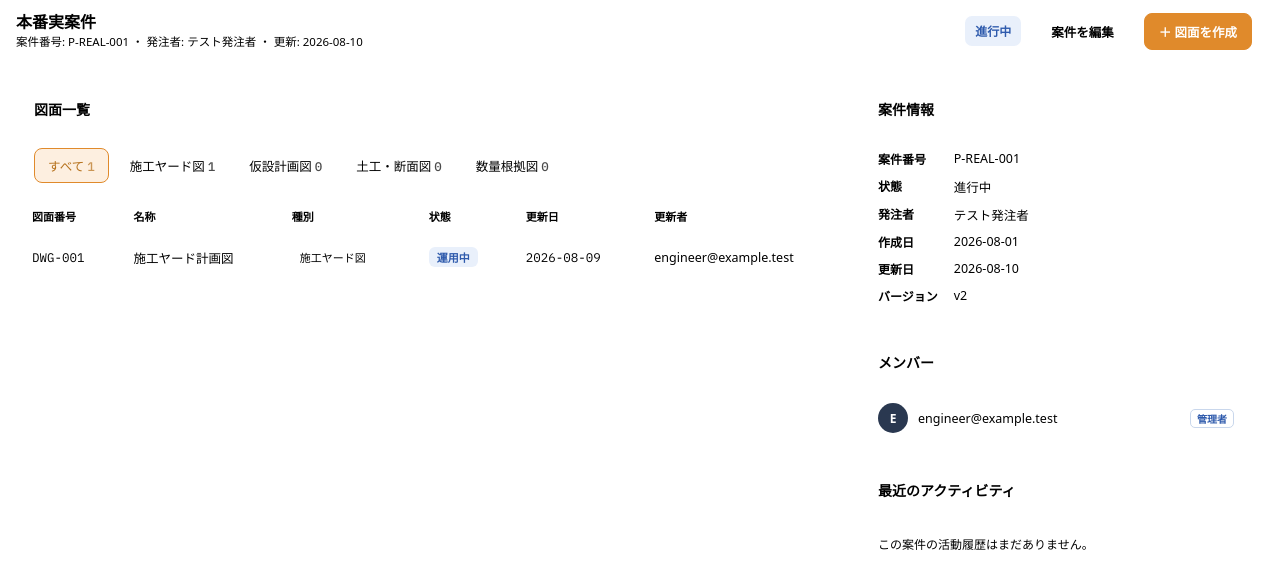
it: ProjectDetailCloudPage › 図面詳細では実図面の CAD 編集が無効化され理由を表示する
Expected: the text "DWG-001" is shown, [16,235,117,279]
Click the button "施工ヤード計画図".
click(183, 257)  # box [133,248,233,266]
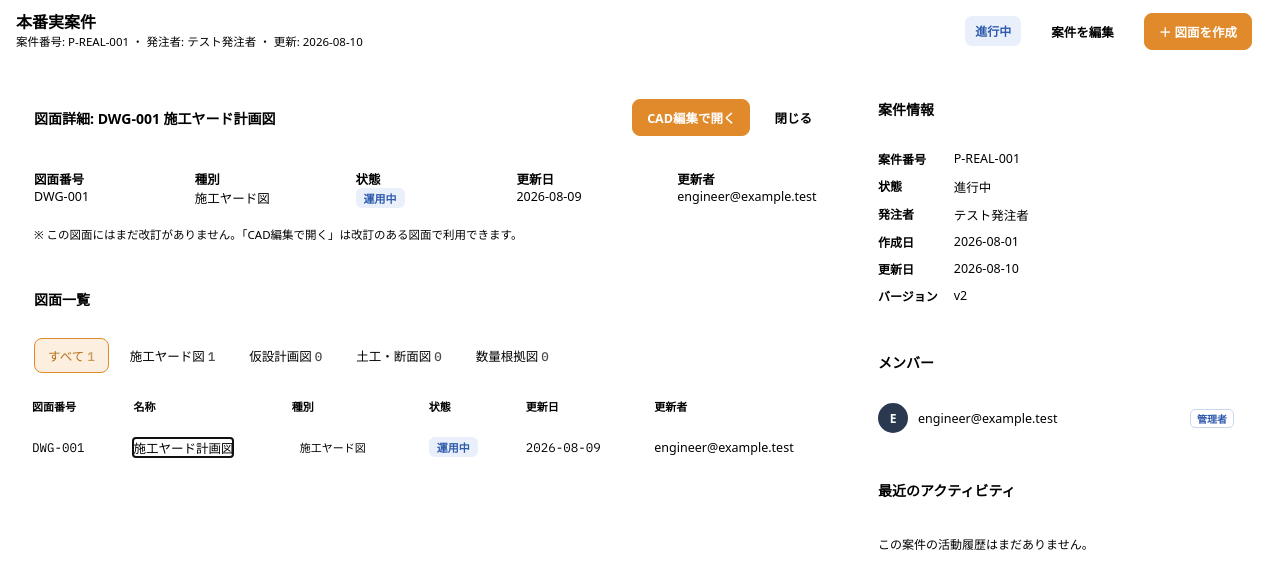
Result: the button "CAD編集で開く" is disabled at [632,99,750,136]
Result: the text "※ この図面にはまだ改訂がありません。「CAD編集で開く」は改訂のある図面で利用できます。" is shown at [34,227,522,242]
